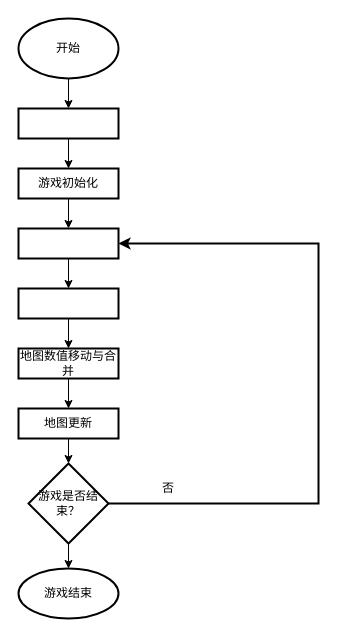
This 344x636 diagram has some shape labels left out. Each missing label, with the centre of its shape:
"地图随机生成一个2" belongs at [68,243].
"获取键盘操作" belongs at [68,303].
"输入用户名" belongs at [68,123].
